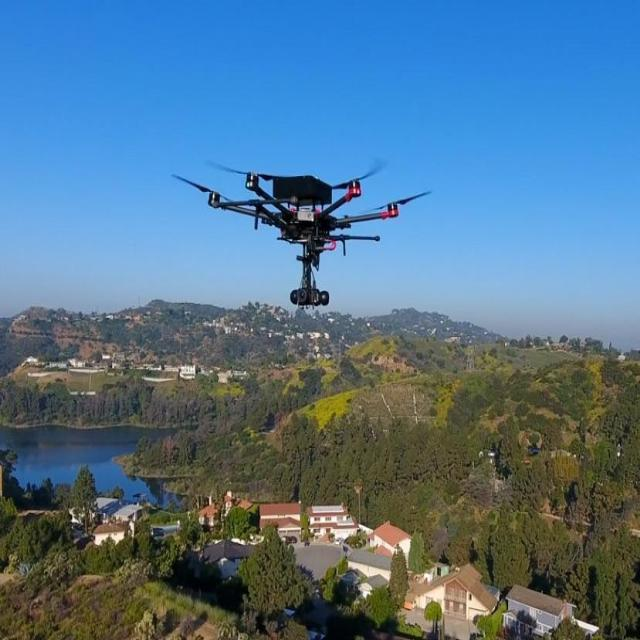drone: (172, 151, 437, 313)
